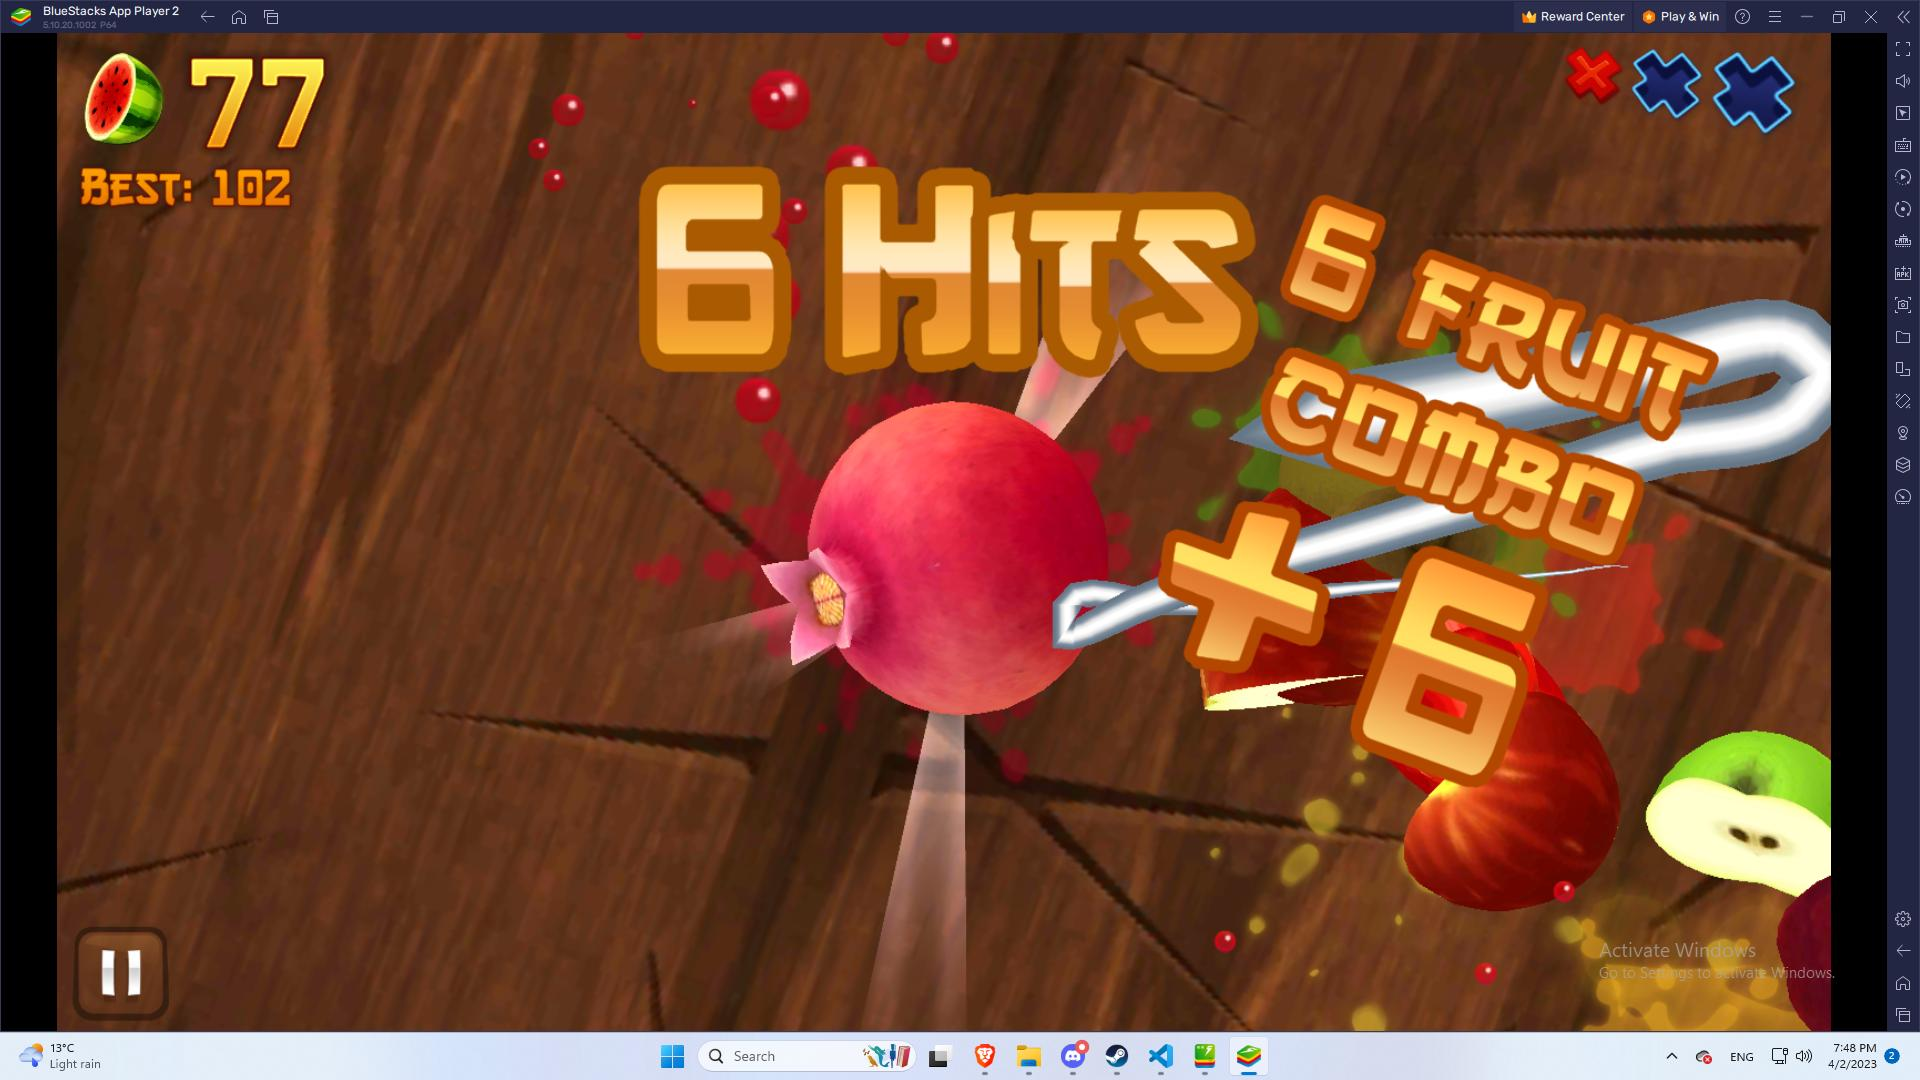fruit: (756, 396, 1125, 721)
